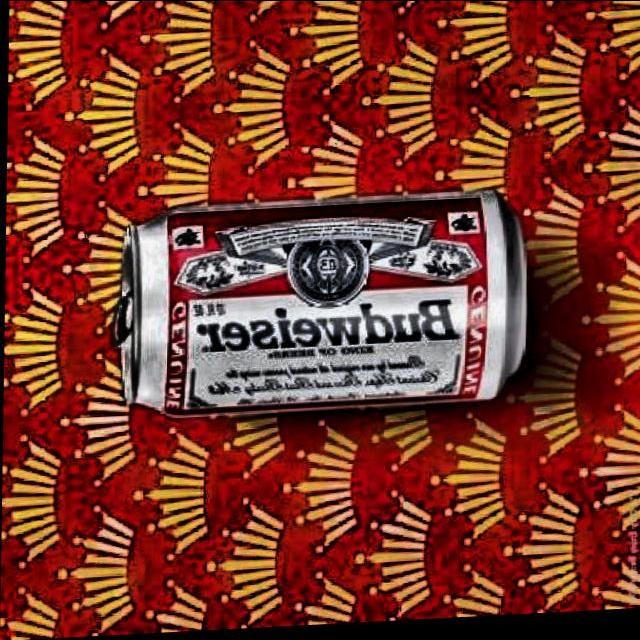Aluminum Can: (103, 188, 544, 428)
